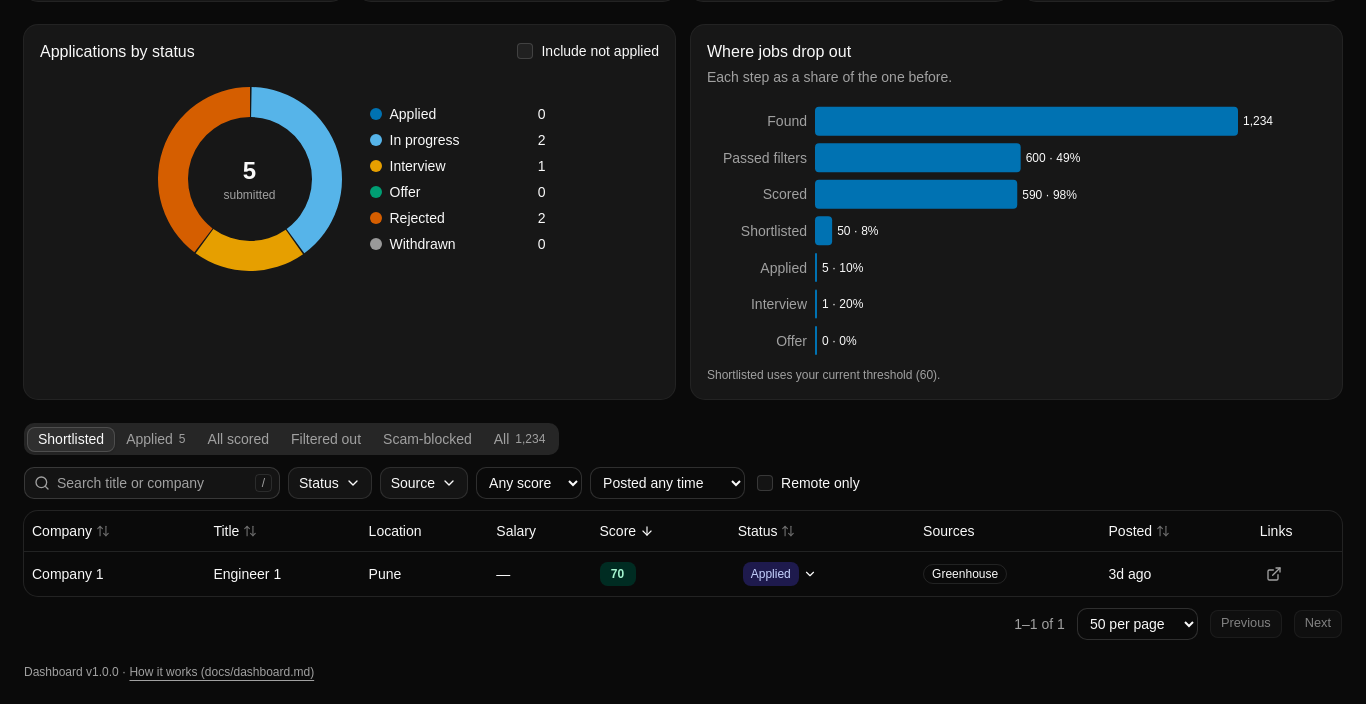
Test: Undo after a move › offers Undo on the "Marked" message, and takes the move back
(page scrolled)
Click the button with aria-label "Status: Applied. Change status" at (780, 574), box [738,560,822,588]
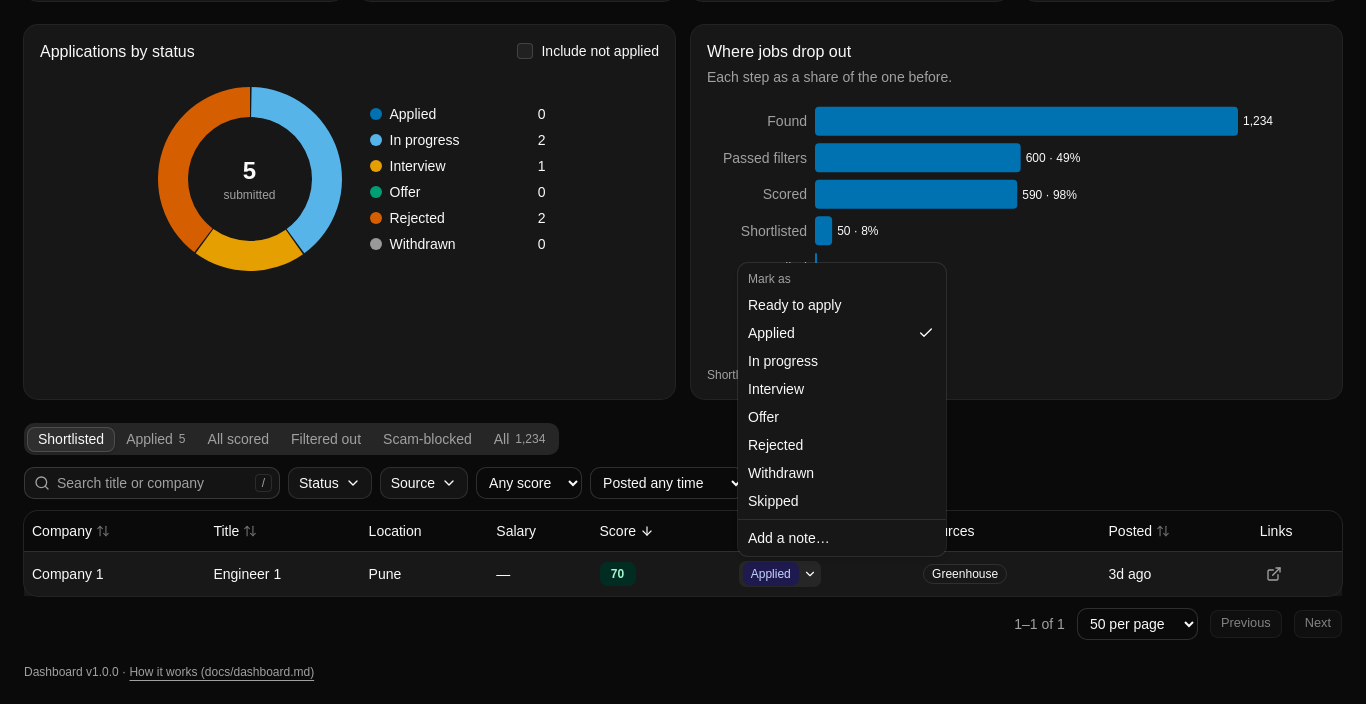
Click the menu item "Offer" at (763, 417), box [748,409,779,425]
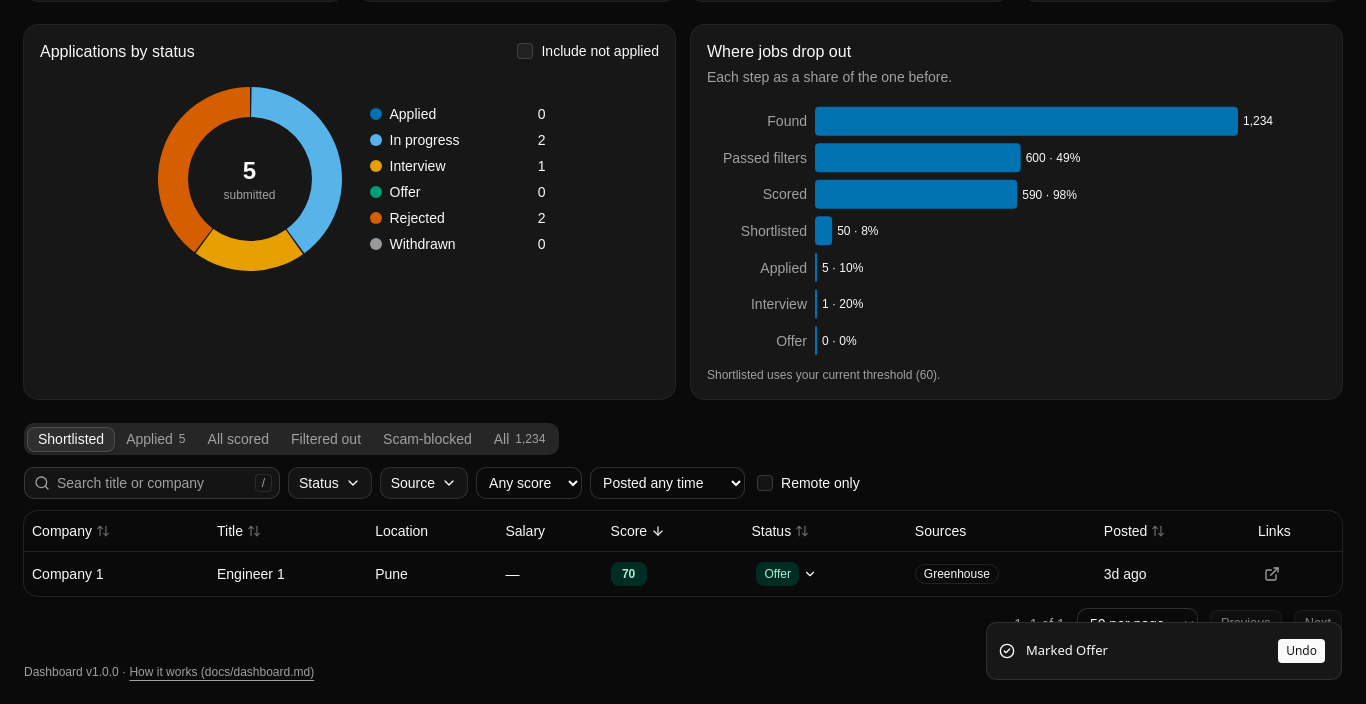
Now the text "Marked Offer" is shown, box [1026,641,1108,661]
Click the button "Undo" at (1302, 651), box [1278,639,1325,663]
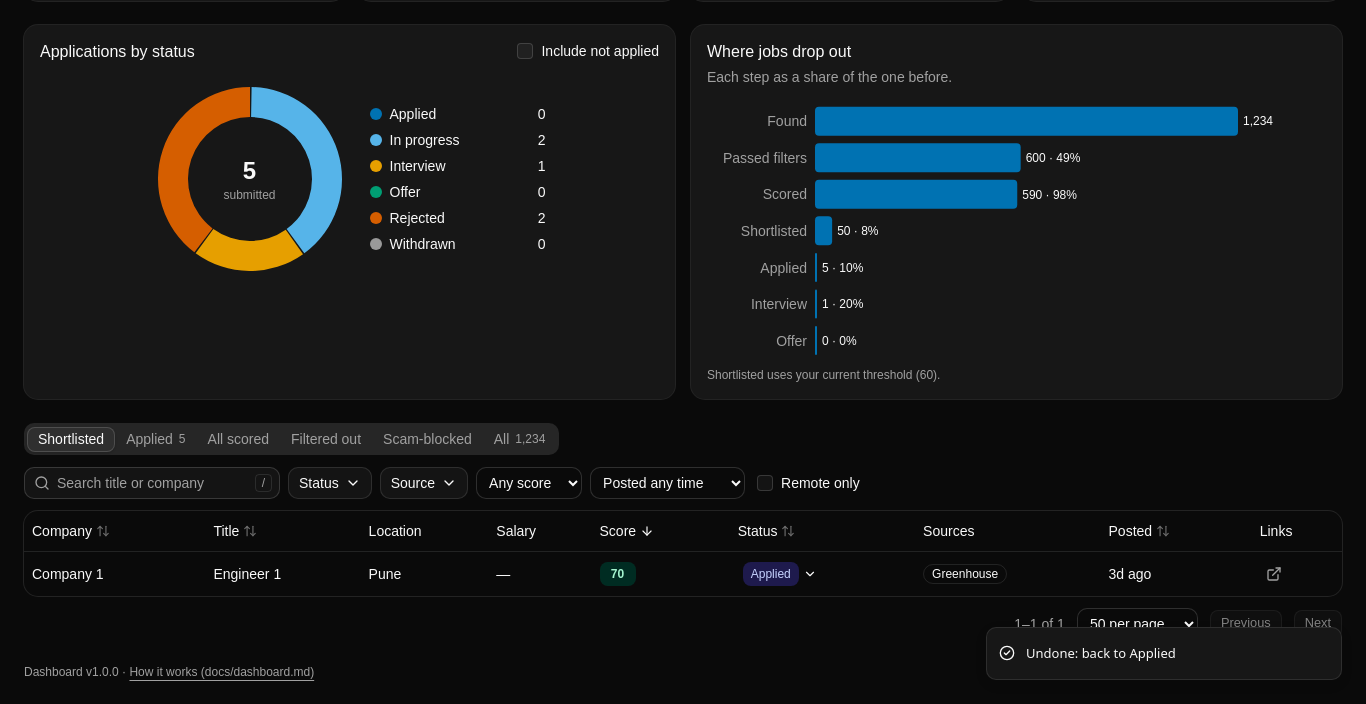
Now the text "Undone: back to Applied" is shown, box [1026,644,1176,663]
Now the button with aria-label "Status: Applied. Change status" is shown, box [738,560,822,588]
